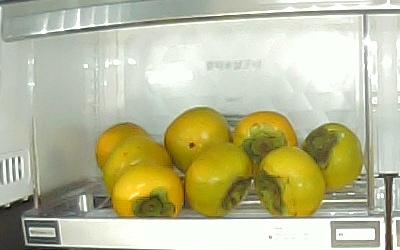persimmon: (255, 145, 326, 219), (183, 144, 254, 218), (164, 106, 232, 173), (301, 121, 363, 194), (111, 167, 185, 219), (102, 138, 173, 191), (232, 111, 297, 163), (95, 118, 150, 168)
